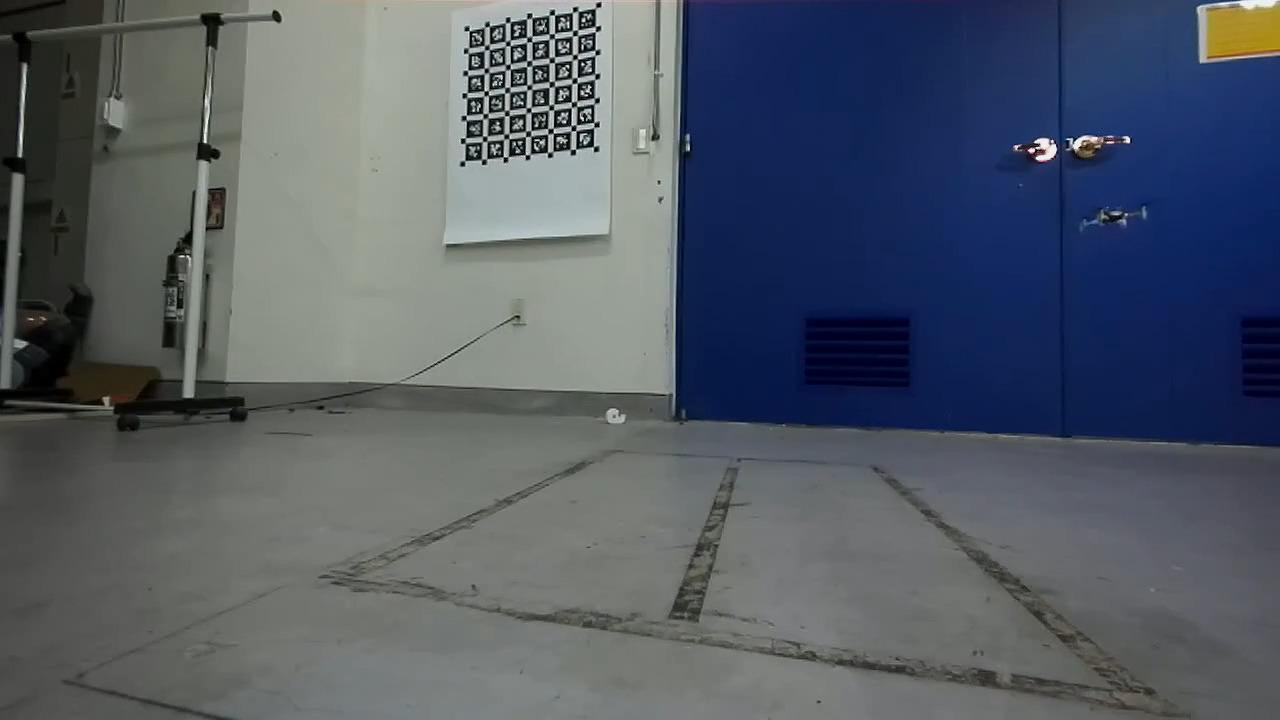crazyflie: (1070, 201, 1154, 238)
